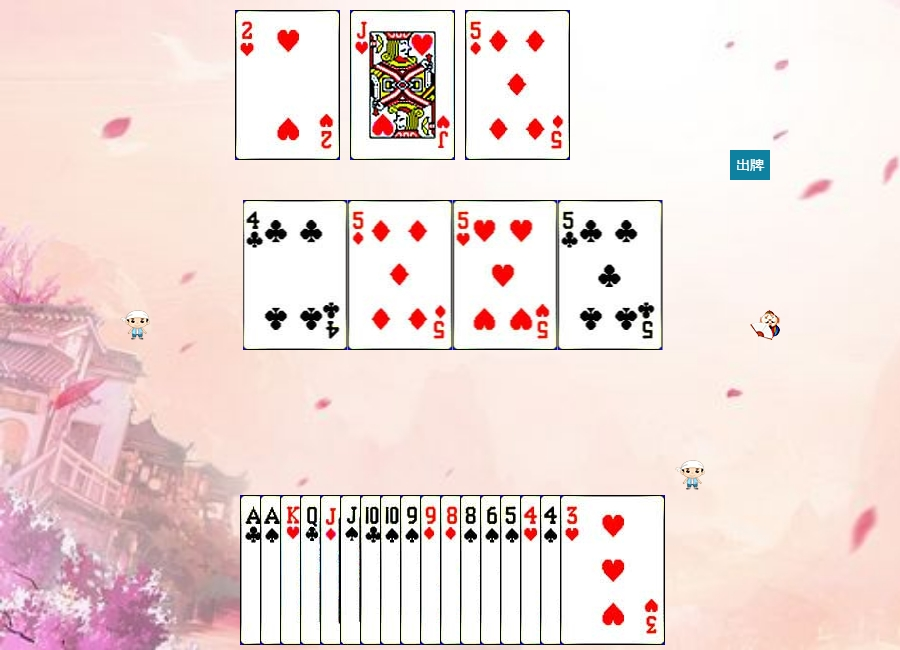10~2: (360, 495, 465, 645)
10~4: (380, 495, 485, 645)
11~1: (320, 495, 425, 645)
11~3: (350, 10, 455, 160)
11~4: (340, 495, 445, 645)
12~2: (300, 495, 405, 645)
13~3: (280, 495, 385, 645)
14~2: (240, 495, 345, 645)
14~4: (260, 495, 365, 645)
15~3: (235, 10, 340, 160)
3~3: (560, 495, 665, 645)
4~2: (243, 200, 348, 350)
4~3: (520, 495, 625, 645)
4~4: (540, 495, 645, 645)
5~1: (465, 10, 570, 160), (348, 200, 453, 350)
5~2: (558, 200, 663, 350)
5~3: (453, 200, 558, 350)
5~4: (500, 495, 605, 645)
6~4: (480, 495, 585, 645)
8~1: (440, 495, 545, 645)
8~4: (460, 495, 565, 645)
9~1: (420, 495, 525, 645)
9~4: (400, 495, 505, 645)
